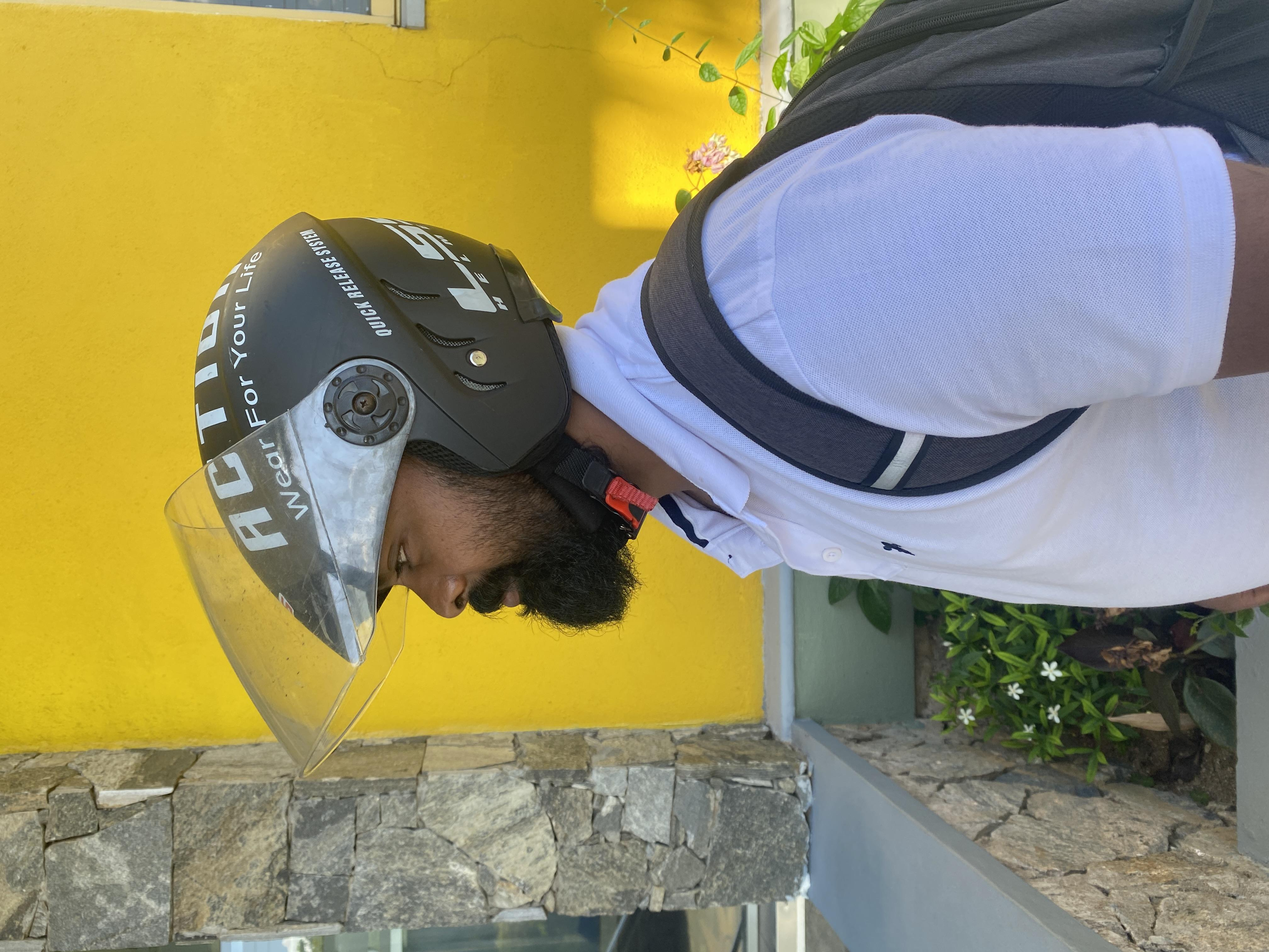helmet: (269, 130, 1009, 481)
